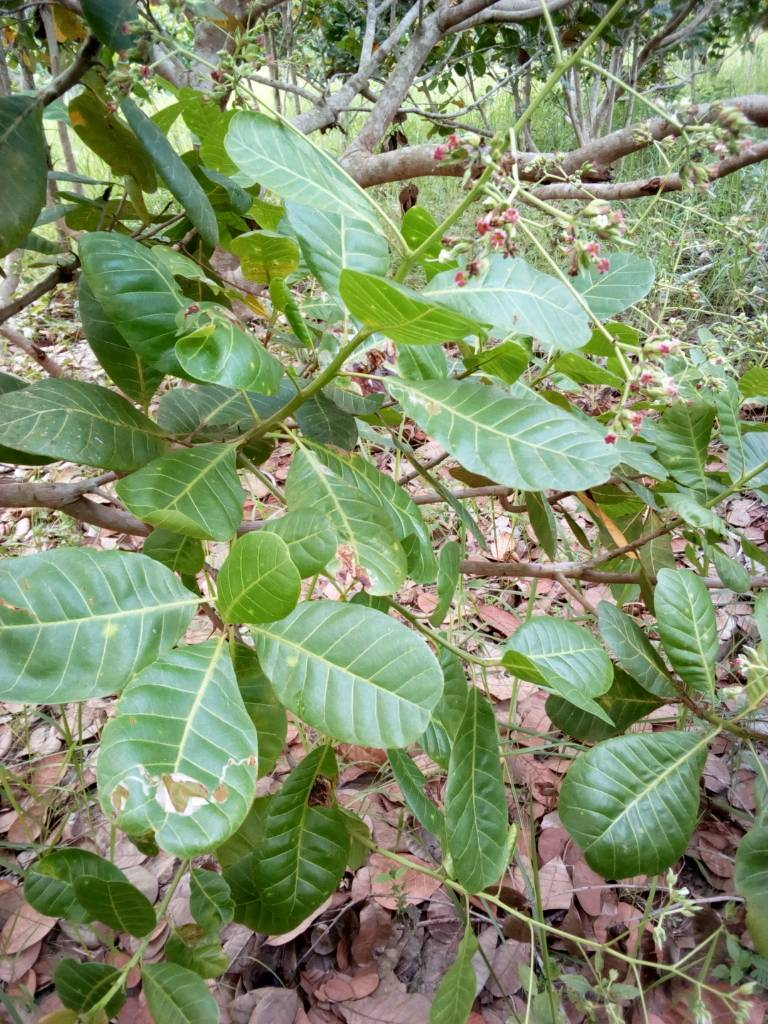Dysdercus wolkerii: (90, 636, 260, 866), (290, 446, 416, 599)
